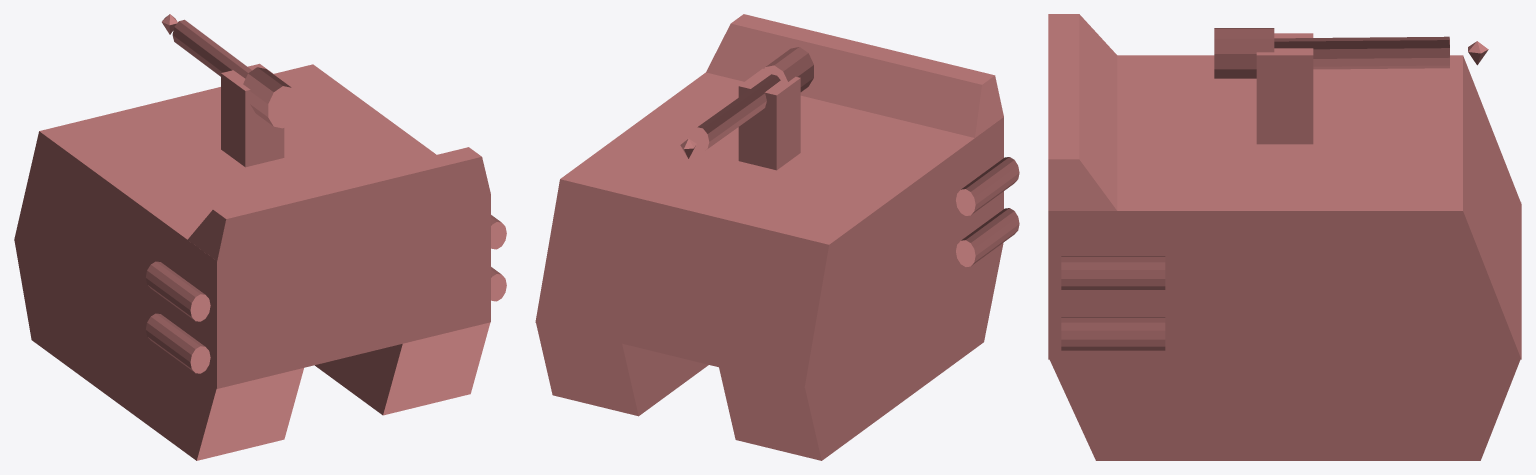
The picture shows the model from 3 angles, left to right: view 1: azimuth 30°, elevation 25°; view 2: azimuth 150°, elevation 25°; view 3: azimuth 270°, elevation 25°; orthographic projection. The views are drawn at different scales.
Visible parts, largest first — view 1: x3ds_Box01, x3ds_Box03, x3ds_Box04, x3ds_Box02, x3ds_Box05, x3ds_Cylinder03, x3ds_Cylinder10, x3ds_Cylinder07, x3ds_Cylinder02; view 2: x3ds_Box01, x3ds_Box03, x3ds_Box04, x3ds_Box02, x3ds_Box05, x3ds_Cylinder02, x3ds_Cylinder07, x3ds_Cylinder10, x3ds_Cylinder03; view 3: x3ds_Box01, x3ds_Box02, x3ds_Box04, x3ds_Box05, x3ds_Cylinder02, x3ds_Cylinder04, x3ds_Cylinder06, x3ds_Cylinder03.
Boxes of the visible parts, bbox=[...] form: x3ds_Box01: bbox=[14, 64, 490, 388]; x3ds_Box03: bbox=[14, 239, 303, 460]; x3ds_Box04: bbox=[187, 147, 490, 261]; x3ds_Box02: bbox=[315, 322, 490, 415]; x3ds_Box05: bbox=[221, 63, 284, 167]; x3ds_Cylinder03: bbox=[243, 67, 297, 128]; x3ds_Cylinder10: bbox=[145, 313, 210, 373]; x3ds_Cylinder07: bbox=[145, 261, 210, 321]; x3ds_Cylinder02: bbox=[172, 19, 251, 78]; x3ds_Box01: bbox=[535, 72, 1003, 387]; x3ds_Box03: bbox=[719, 243, 1003, 460]; x3ds_Box04: bbox=[706, 14, 1003, 137]; x3ds_Box02: bbox=[536, 321, 708, 416]; x3ds_Box05: bbox=[738, 68, 800, 170]; x3ds_Cylinder02: bbox=[691, 74, 780, 152]; x3ds_Cylinder07: bbox=[956, 157, 1019, 215]; x3ds_Cylinder10: bbox=[956, 208, 1019, 266]; x3ds_Cylinder03: bbox=[760, 47, 813, 91]; x3ds_Box01: bbox=[1048, 55, 1521, 359]; x3ds_Box02: bbox=[1049, 308, 1521, 460]; x3ds_Box04: bbox=[1048, 14, 1117, 210]; x3ds_Box05: bbox=[1256, 33, 1313, 144]; x3ds_Cylinder02: bbox=[1274, 36, 1449, 69]; x3ds_Cylinder04: bbox=[1061, 317, 1165, 350]; x3ds_Cylinder06: bbox=[1061, 256, 1165, 289]; x3ds_Cylinder03: bbox=[1214, 28, 1274, 78].
Size of the model in its own units: 35.45 by 32.58 by 39.4.
